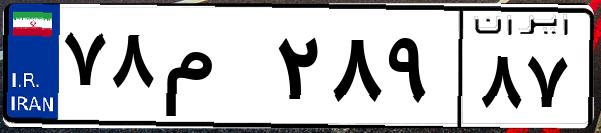2: (270, 28, 330, 110)
7: (57, 26, 110, 100), (525, 38, 570, 115)
8: (330, 28, 385, 110), (475, 38, 525, 113), (110, 28, 158, 98)
9: (385, 28, 445, 110)
م: (158, 20, 270, 120)
